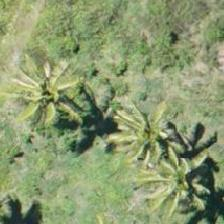coconut_tree: (2, 50, 92, 140), (105, 97, 195, 187), (144, 139, 223, 223)
